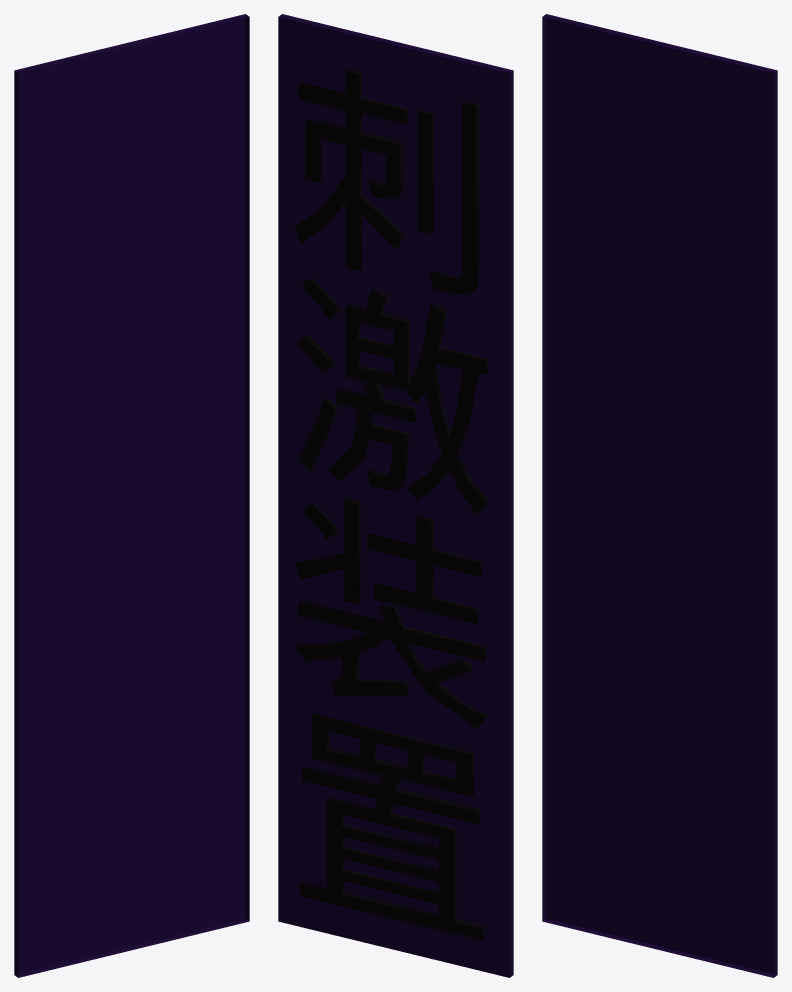
Rendered from SignJap1.fbx.
3 renders of one model, left to right at view 1: azimuth 30°, elevation 25°; view 2: azimuth 150°, elevation 25°; view 3: azimuth 330°, elevation 25°, orthographic.
Visible parts, largest first — view 1: Cube.006; view 2: Cube.006; view 3: Cube.006.
Part boxes in pixels (x1,y1,x2,y2): Cube.006: [14, 14, 249, 977]; Cube.006: [278, 14, 513, 977]; Cube.006: [542, 14, 777, 977].
Bounding box in the file's own units: 666 × 2491 × 36.37.
